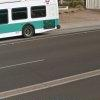buses: (0, 0, 63, 39)
